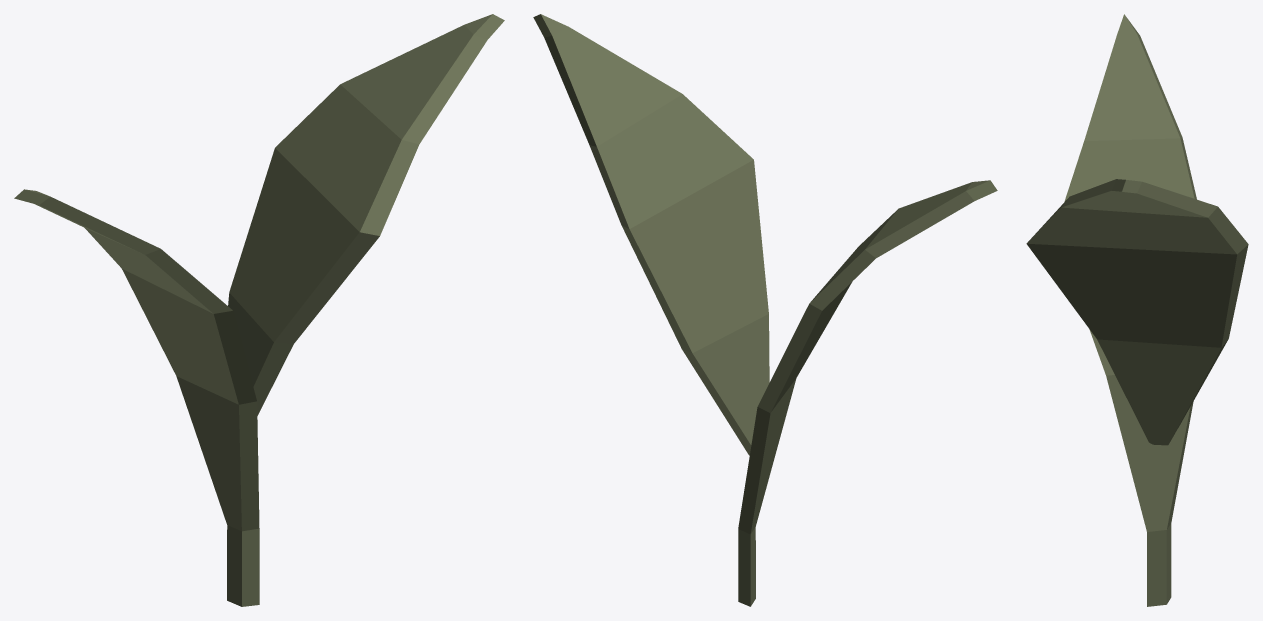
The model's file is lettuce_1.glb.
The picture shows the model from 3 angles, left to right: view 1: azimuth 30°, elevation 25°; view 2: azimuth 150°, elevation 25°; view 3: azimuth 270°, elevation 25°; orthographic projection. The views are drawn at different scales.
Parts seen in each view (by area): view 1: Lettuce_1; view 2: Lettuce_1; view 3: Lettuce_1.
Boxes of the visible parts, <box> form: Lettuce_1: <box>14,14,504,606</box>; Lettuce_1: <box>533,14,997,606</box>; Lettuce_1: <box>1026,14,1248,606</box>.
Bounding box in the file's own units: 0.2761 × 0.2941 × 0.111.
